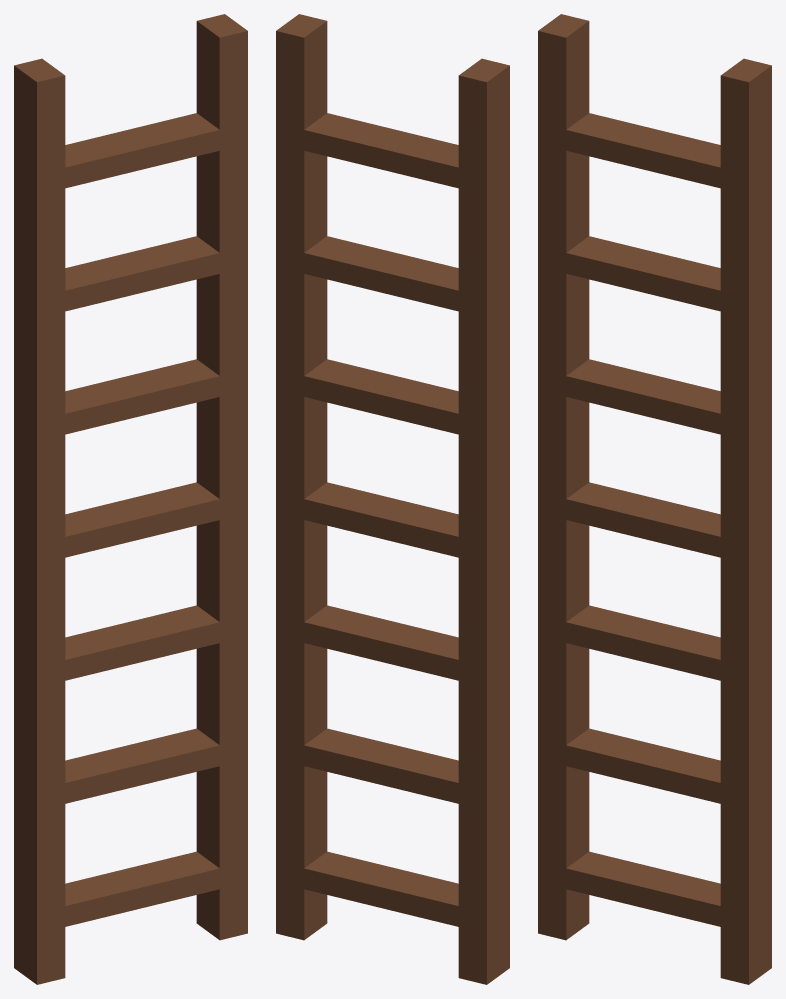
The model's file is Ladder.fbx.
3 views of the same model, side by side, from view 1: azimuth 30°, elevation 25°; view 2: azimuth 150°, elevation 25°; view 3: azimuth 330°, elevation 25° (orthographic).
Parts seen in each view (by area): view 1: Ladder; view 2: Ladder; view 3: Ladder.
Part boxes in pixels (x1,y1,x2,y2): Ladder: [14, 14, 247, 984]; Ladder: [276, 14, 509, 984]; Ladder: [538, 14, 771, 984].
Bounding box in the file's own units: 75.96 × 311 × 14.39.
